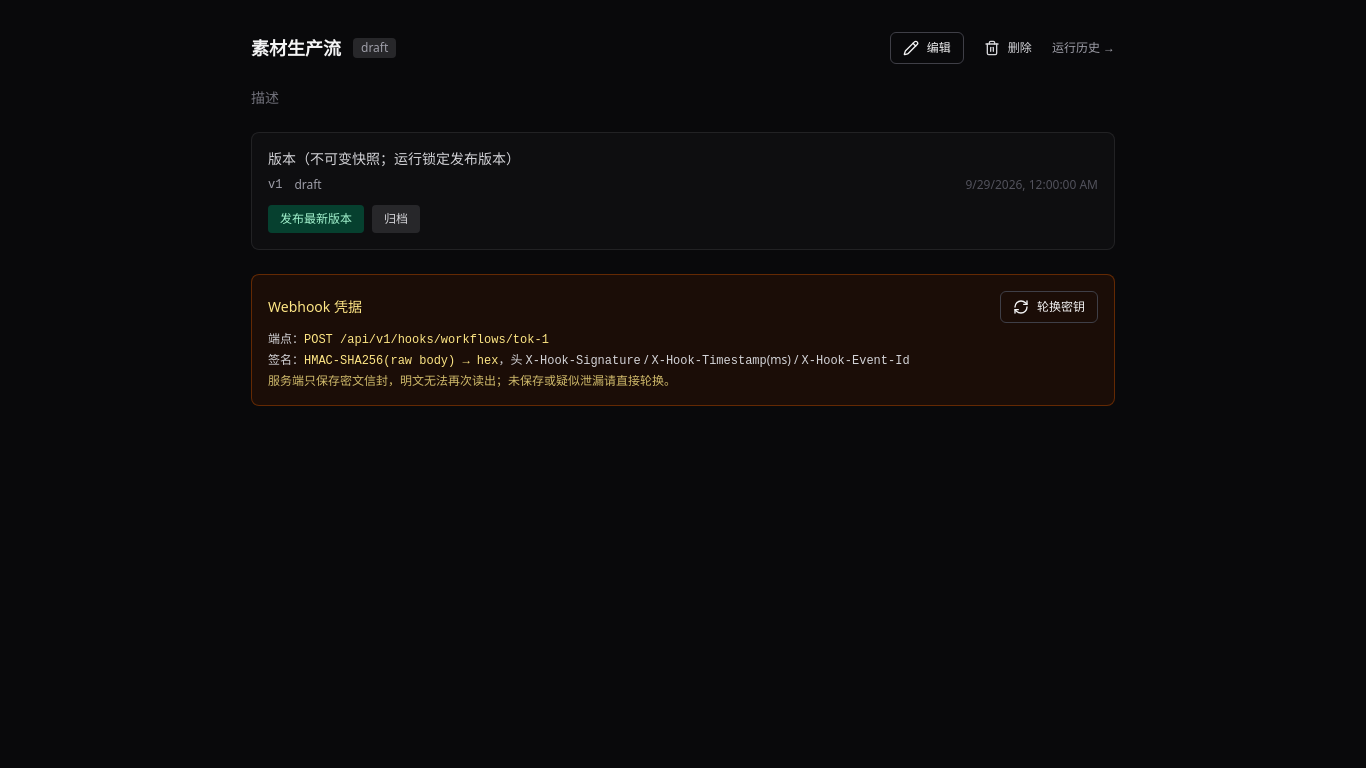
Scenario: WorkflowDetailPage：编辑 / 删除 / webhook 轮换（M13-W10） › 编辑：PATCH /workflows/:id，definition 预填最新版本且提示草稿/已发布的写入语义
Expected: the heading "素材生产流" is shown, x1=251 y1=34 x2=341 y2=62
Click the button "编辑" at (927, 48), box x1=890 y1=32 x2=964 y2=64
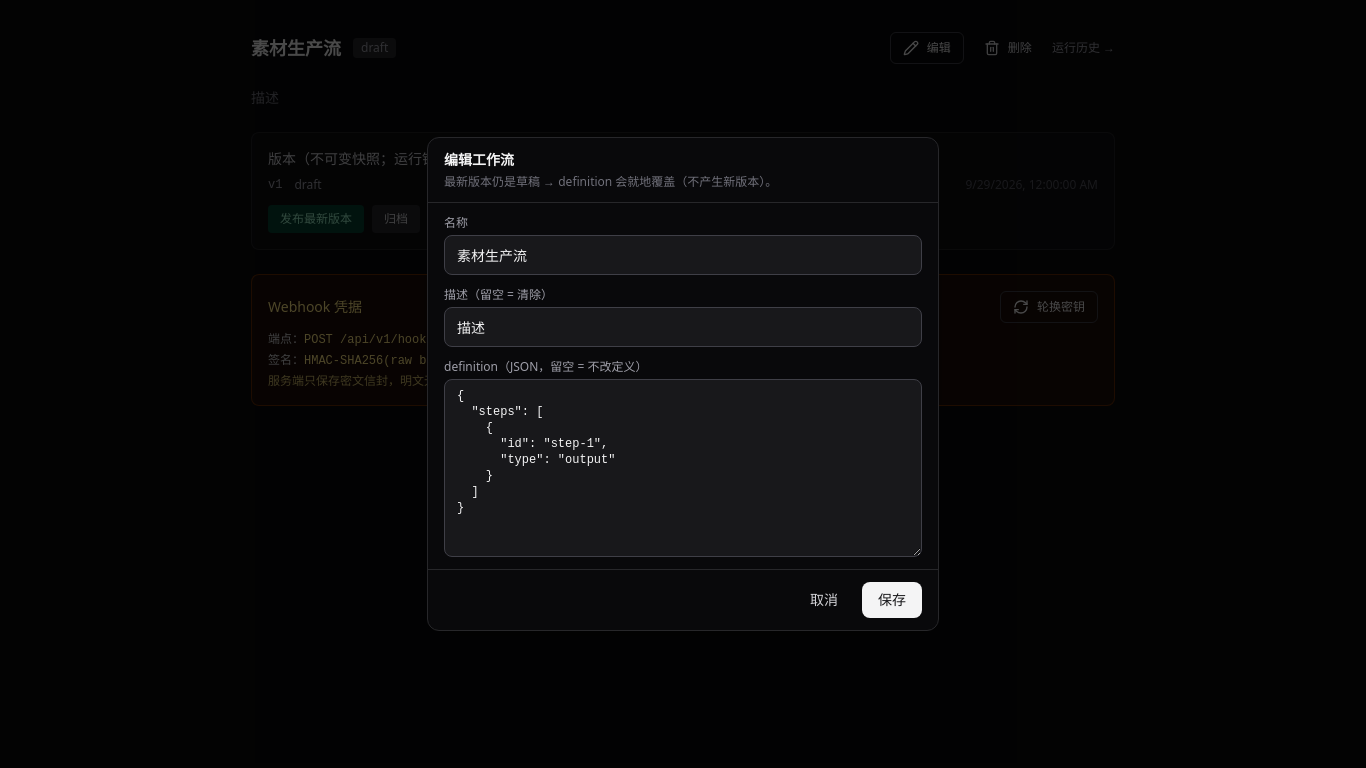
Expected: the text "最新版本仍是草稿 → definition 会就地覆盖（不产生新版本）。" is shown, x1=444 y1=174 x2=777 y2=190
Expected: the field labelled "名称" holds "素材生产流"
Replace the text in the field labelled "名称" with "改名后的流程" at (683, 255), box x1=444 y1=235 x2=922 y2=275
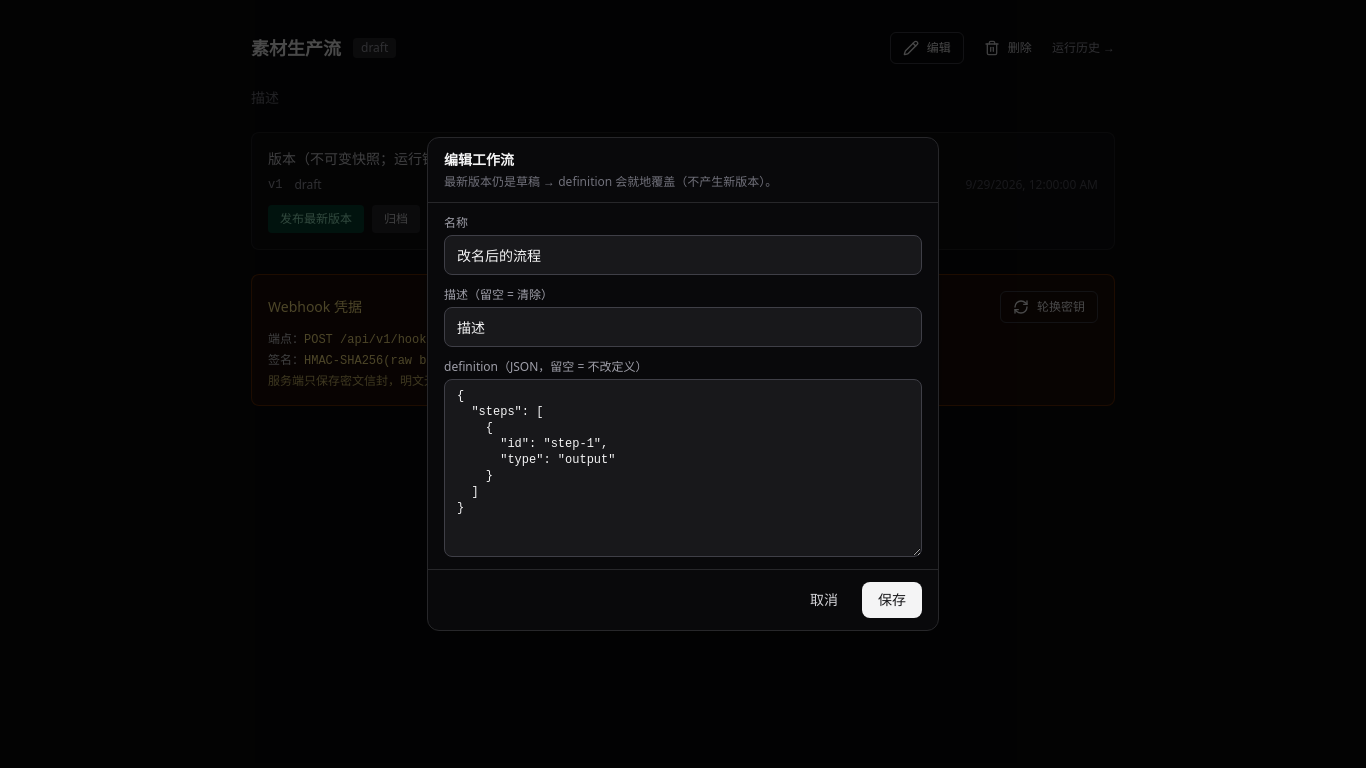
Click the button "保存" at (892, 600), box x1=862 y1=582 x2=922 y2=618
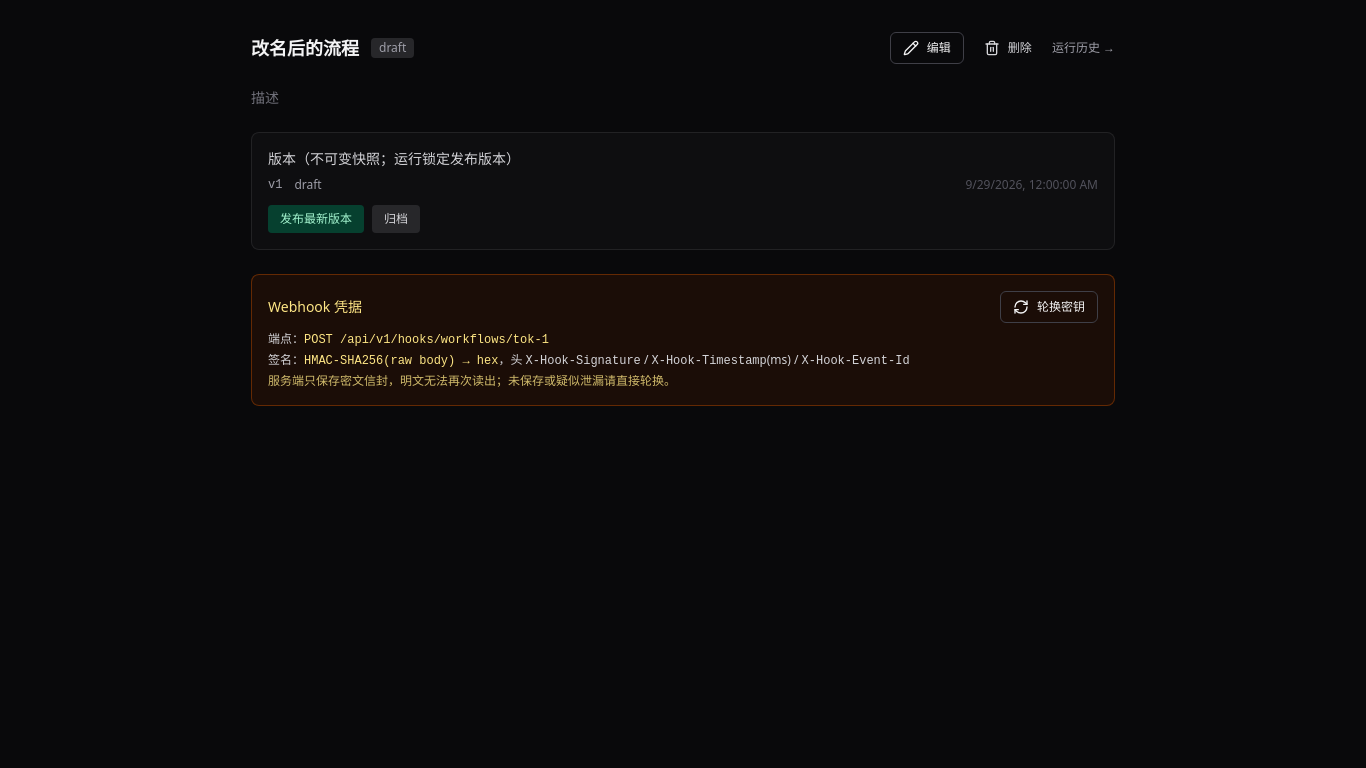
Expected: the heading named "素材生产流" reads "改名后的流程", x1=251 y1=36 x2=359 y2=60
Expected: the heading "改名后的流程" is shown, x1=251 y1=34 x2=359 y2=62
